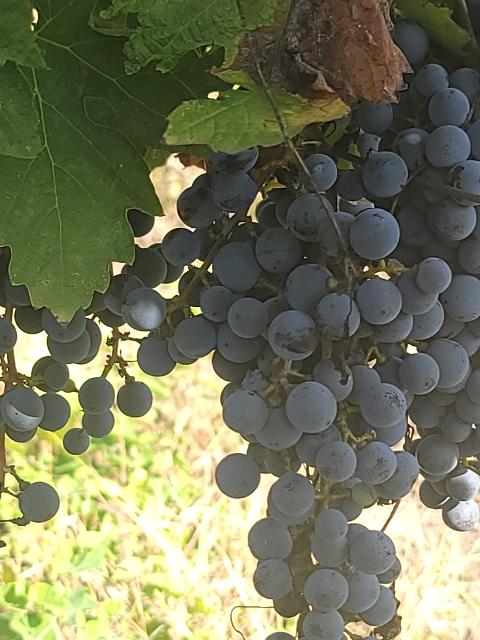grapes: (138, 150, 468, 640), (279, 0, 480, 640), (325, 9, 480, 530), (64, 246, 169, 454), (0, 249, 101, 442), (128, 288, 215, 376), (178, 149, 259, 230), (181, 240, 261, 321), (61, 319, 101, 364), (19, 482, 59, 524), (160, 229, 201, 261), (129, 211, 154, 236)
